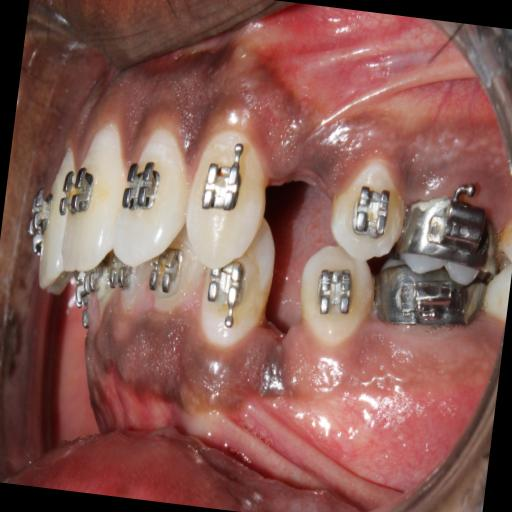correct_brace: (328, 152, 412, 262), (293, 246, 378, 347), (190, 140, 254, 226), (117, 137, 168, 227), (308, 260, 357, 334), (57, 161, 102, 225)
incorrect_brace: (112, 117, 196, 271), (347, 178, 396, 242)
